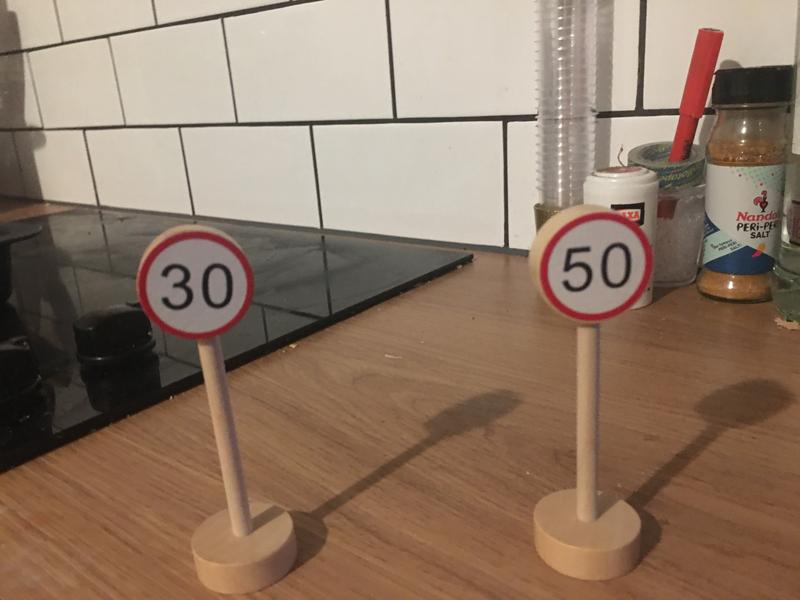Traffic_Sign_30: (137, 232, 252, 340)
Traffic_Sign_50: (538, 218, 649, 318)
